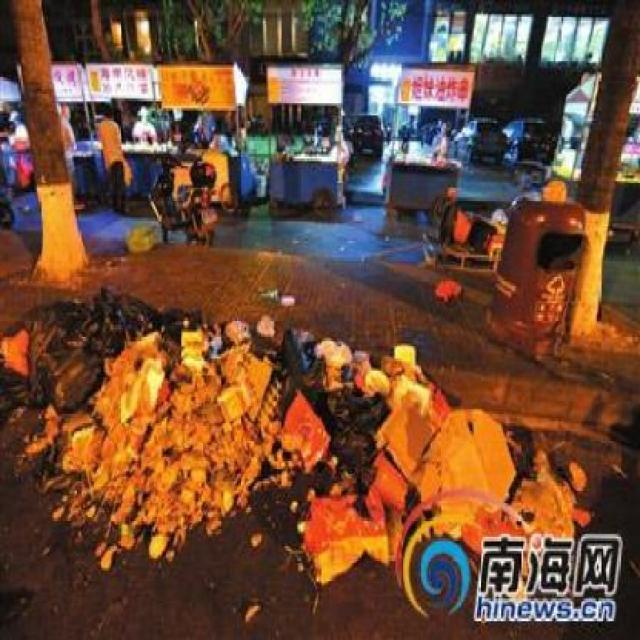garbage: (35, 308, 384, 575)
